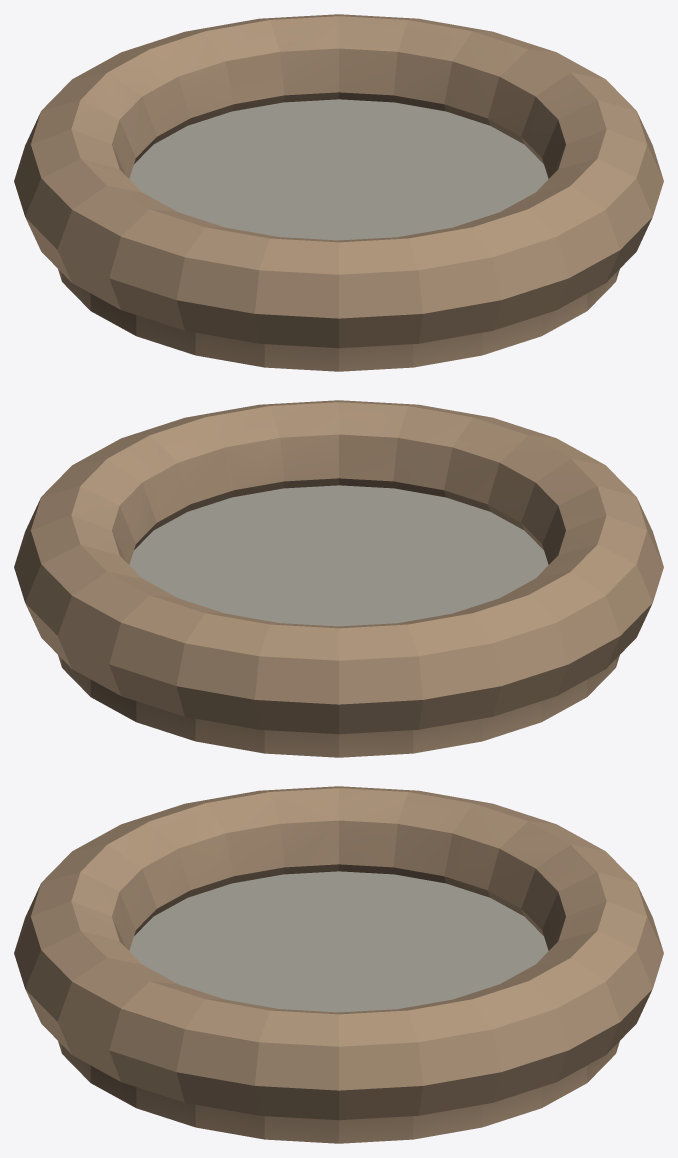
Rendered from petshop_pet_bed__brown.glb.
3 views of the same model, one above another, from view 1: azimuth 30°, elevation 25°; view 2: azimuth 150°, elevation 25°; view 3: azimuth 270°, elevation 25° (orthographic).
Bounding box in the file's own units: 1.02 × 0.21 × 1.02.
